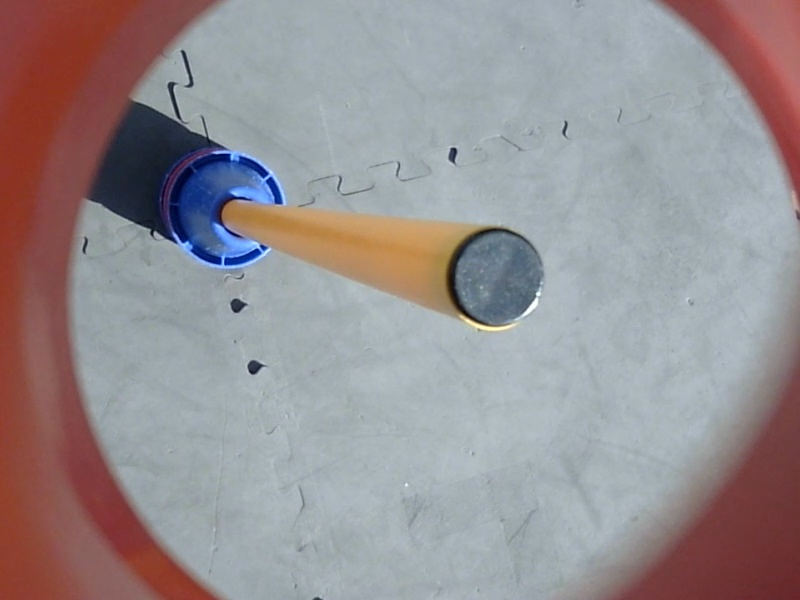tip: (438, 221, 553, 338)
